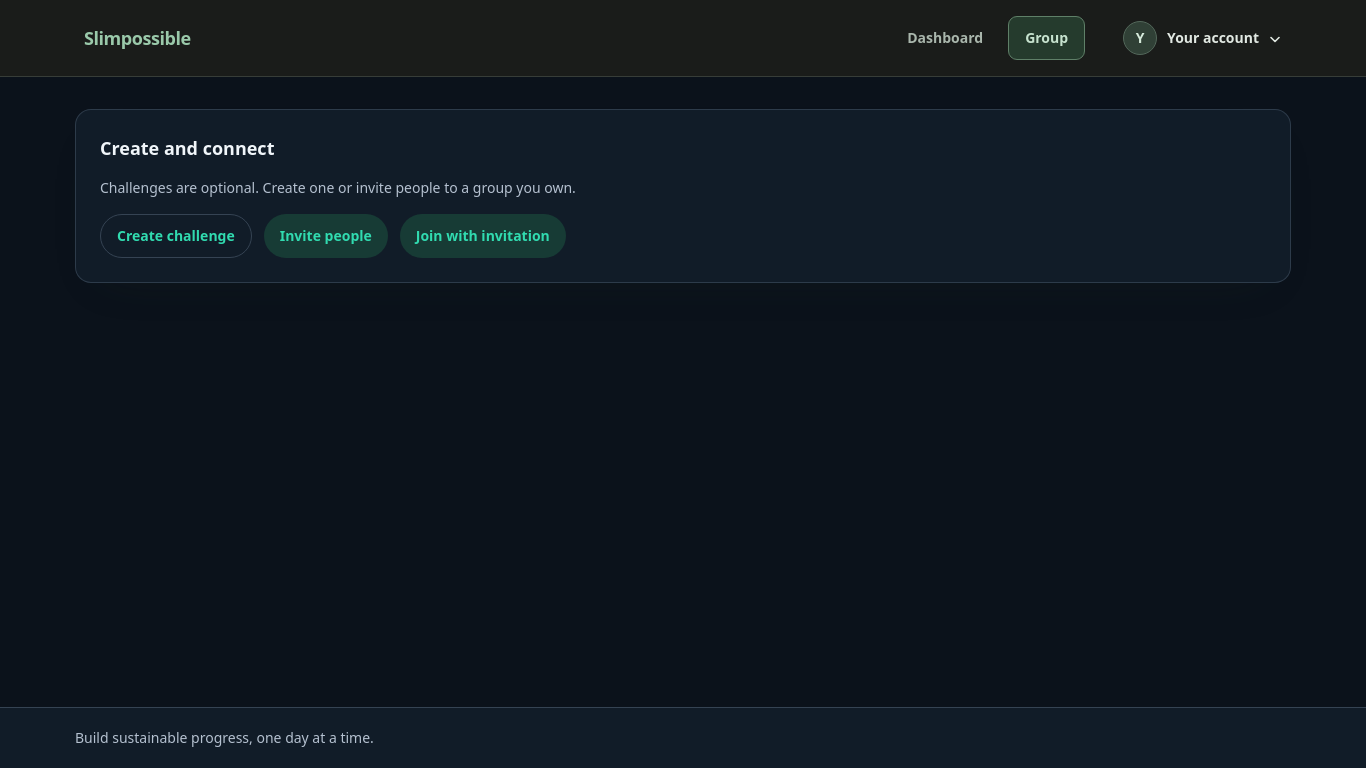
Scenario: allows intentional invitation review without a discard prompt
This screenshot has width=1366, height=768.
Click the button "Join with invitation".
click(483, 236)  # box [400,214,566,258]
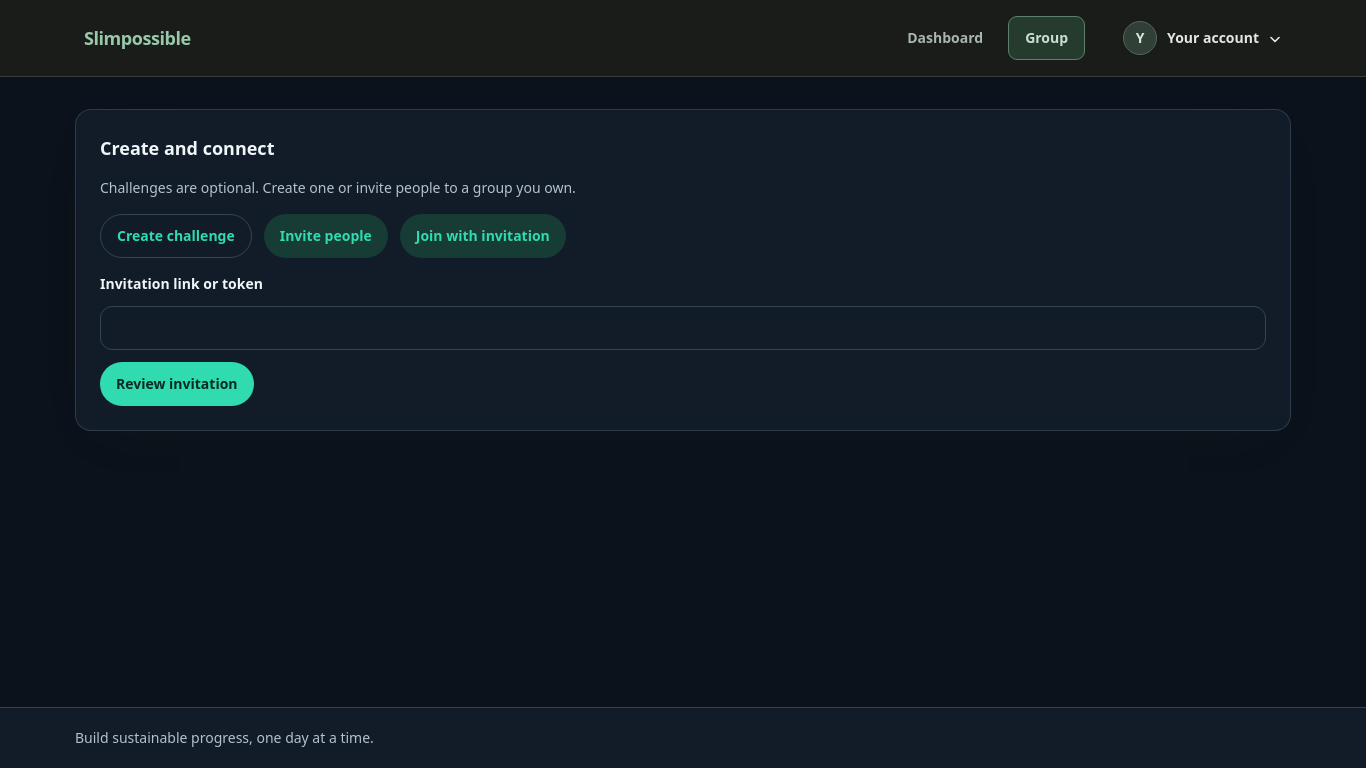
Type "saved-draft" into the field labelled "Invitation link or token".
click(683, 328); type("saved-draft")  # box [100,306,1266,350]
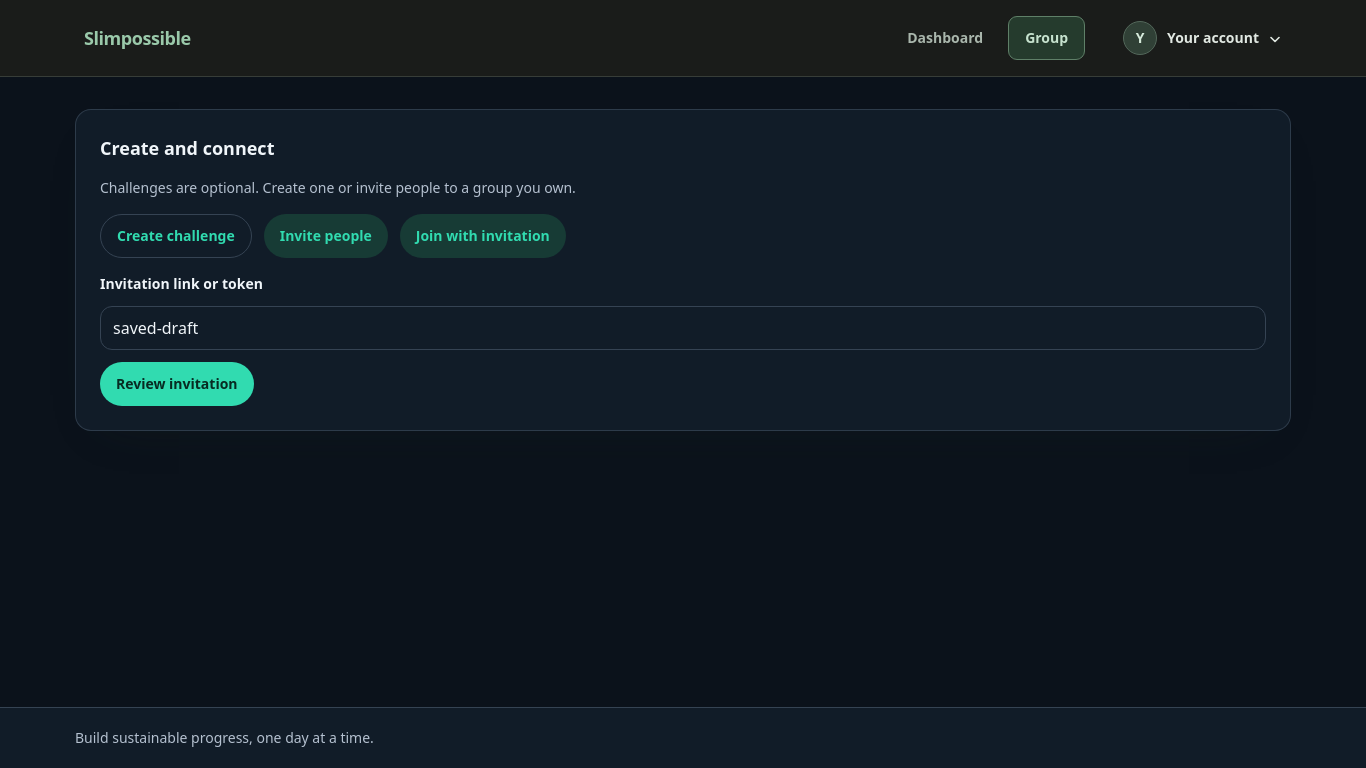
Click the button "Review invitation".
click(177, 384)  # box [100,362,254,406]
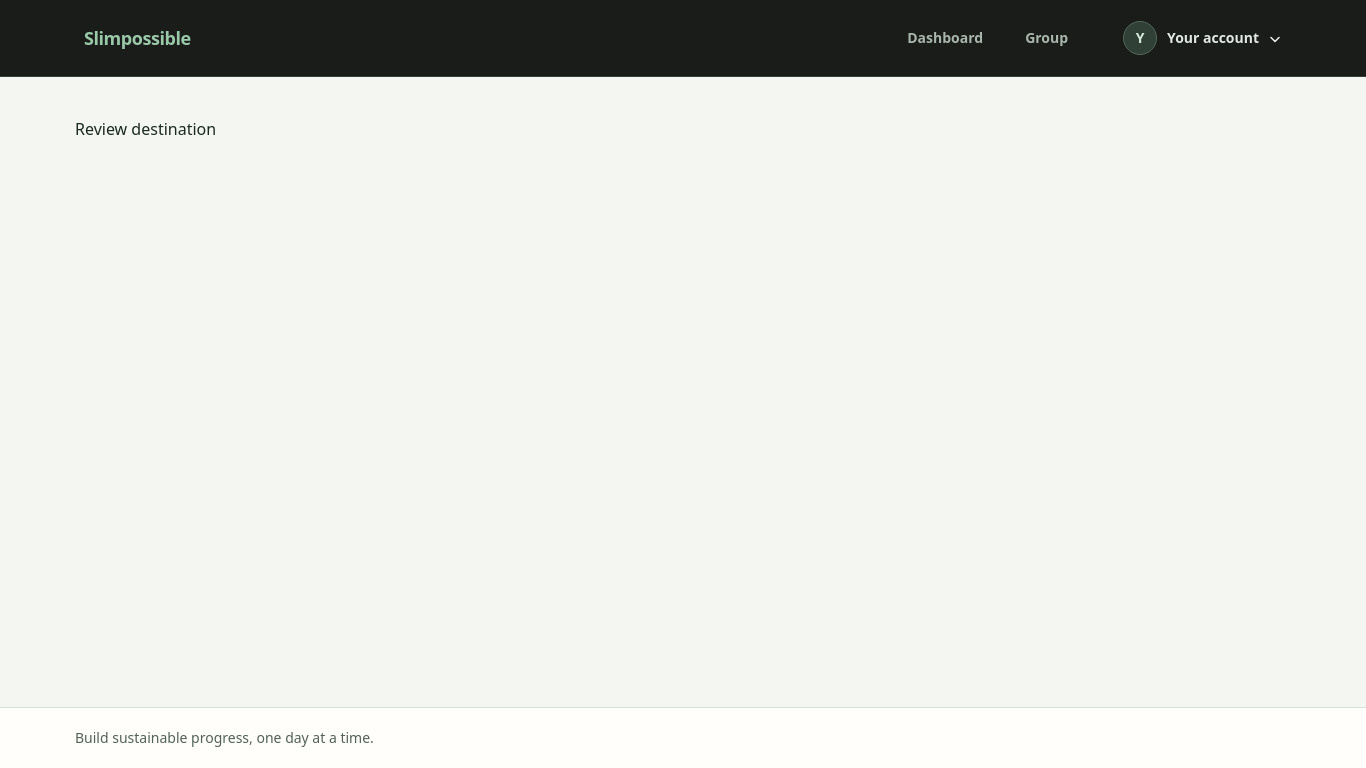
Result: the heading "Review destination" is shown at [75,118,216,140]
